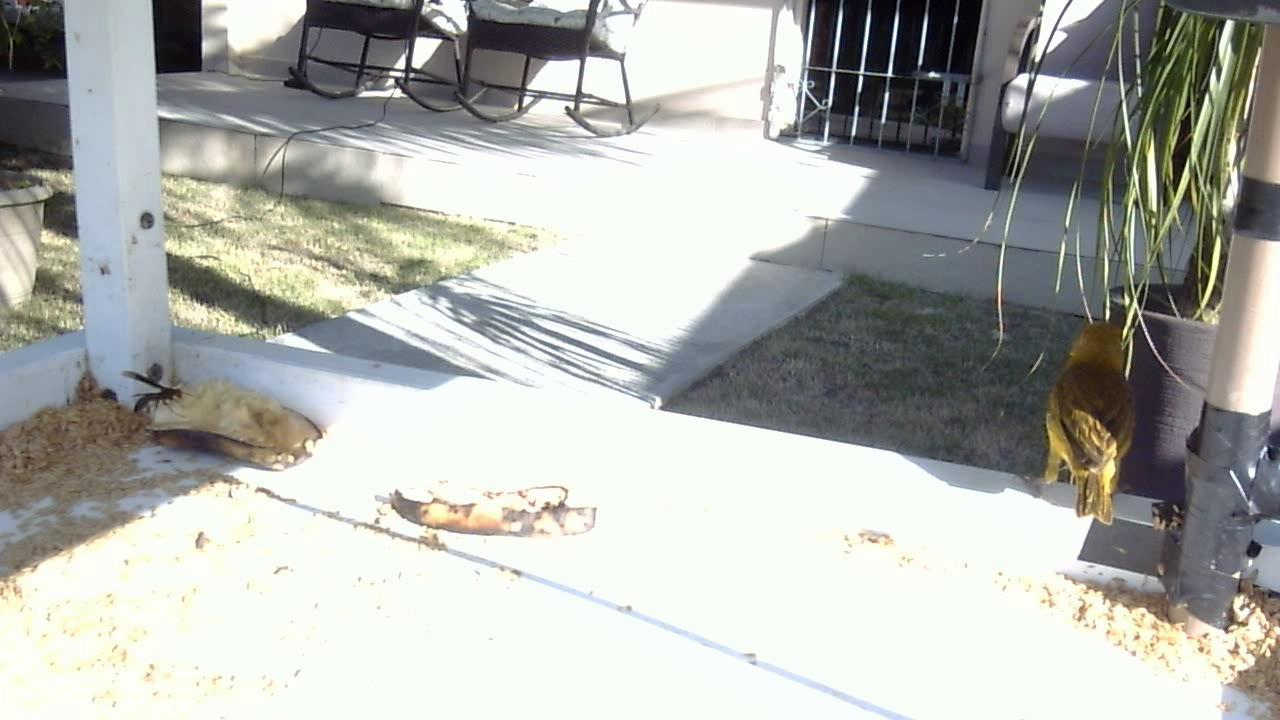canario_do_amazonas: (1037, 321, 1136, 527)
